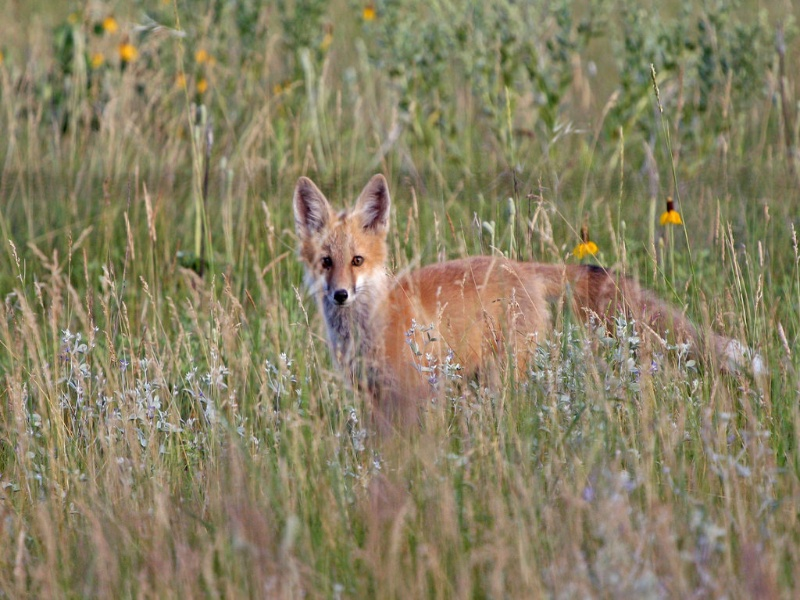fox: (288, 171, 770, 433)
